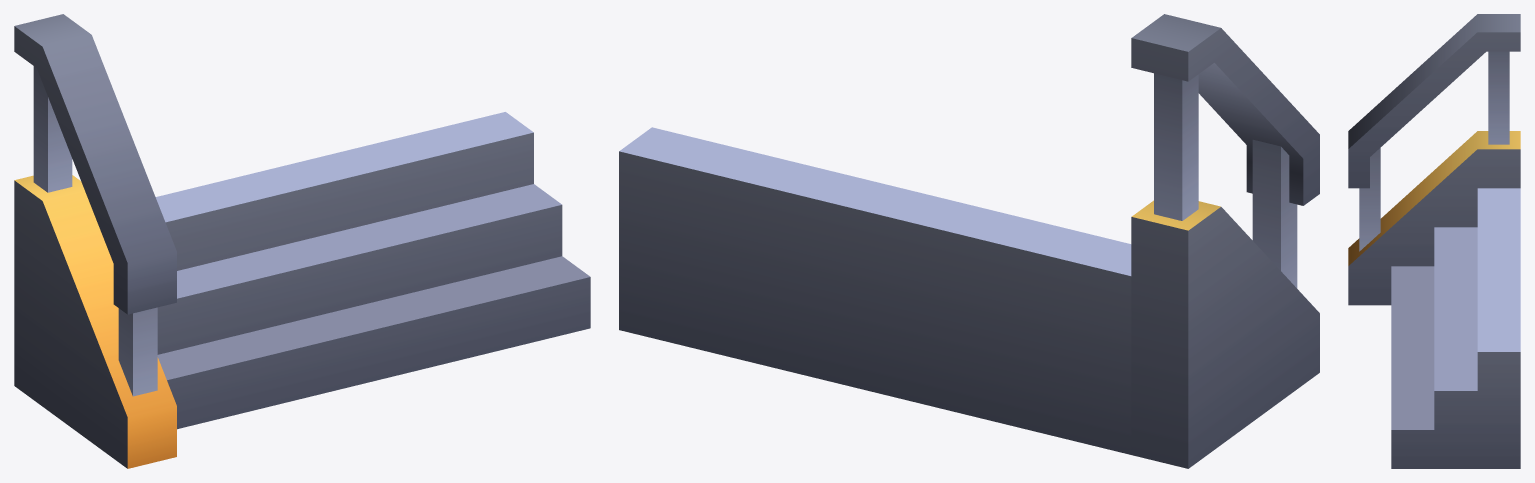
File: kenney-space-station-stairs-small-edge-handrail.glb
The picture shows the model from 3 angles, left to right: view 1: azimuth 30°, elevation 25°; view 2: azimuth 150°, elevation 25°; view 3: azimuth 270°, elevation 25°; orthographic projection. The views are drawn at different scales.
Parts seen in each view (by area): view 1: stairs-small-edge-handrail; view 2: stairs-small-edge-handrail; view 3: stairs-small-edge-handrail.
Part boxes in pixels (x1,y1,x2,y2): stairs-small-edge-handrail: (14,14,590,468); stairs-small-edge-handrail: (619,14,1319,468); stairs-small-edge-handrail: (1348,14,1520,468).
Bounding box in the file's own units: 1 × 0.7 × 0.3999.
Materials: 1 (1 with a texture image).
